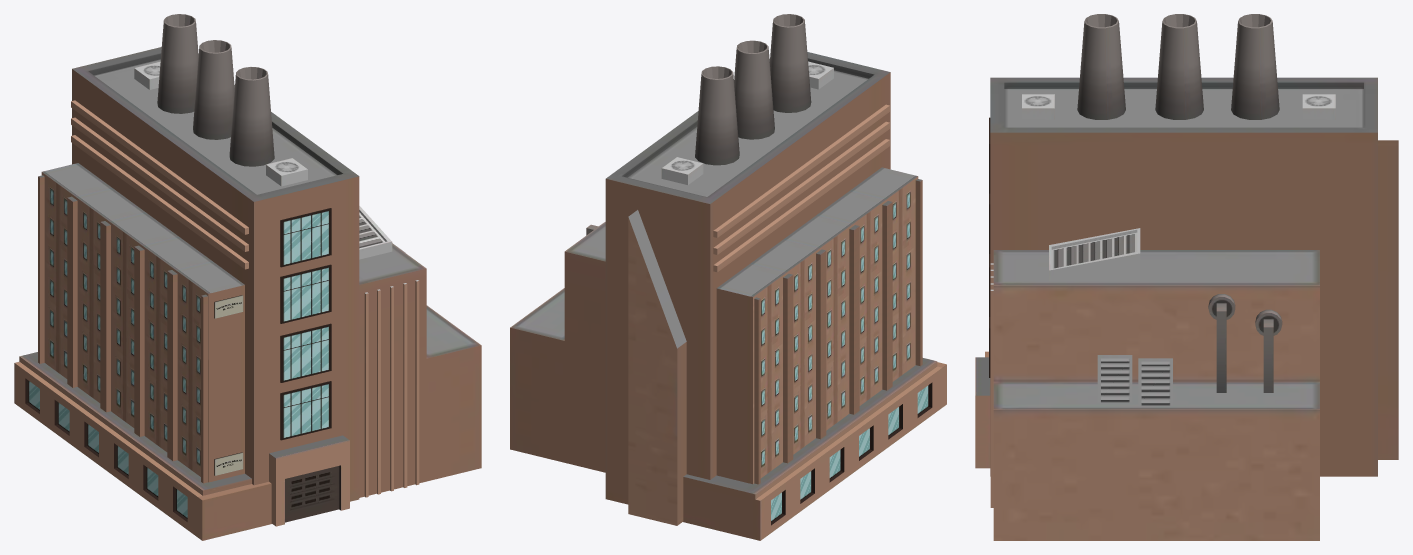
The model's file is industrial_factory_01.glb.
The picture shows the model from 3 angles, left to right: view 1: azimuth 30°, elevation 25°; view 2: azimuth 150°, elevation 25°; view 3: azimuth 270°, elevation 25°; orthographic projection. The views are drawn at different scales.
Parts seen in each view (by area): view 1: ind:factory01; view 2: ind:factory01; view 3: ind:factory01.
Part boxes in pixels (x1,y1,x2,y2): ind:factory01: (14, 14, 481, 540); ind:factory01: (510, 14, 946, 540); ind:factory01: (975, 14, 1398, 540).
Bounding box in the file's own units: 16.67 × 22.62 × 20.26.
1 material, 1 textured.
